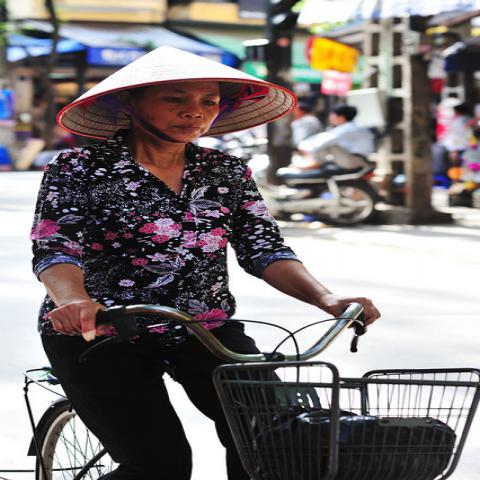motorcycle: (256, 166, 383, 226)
